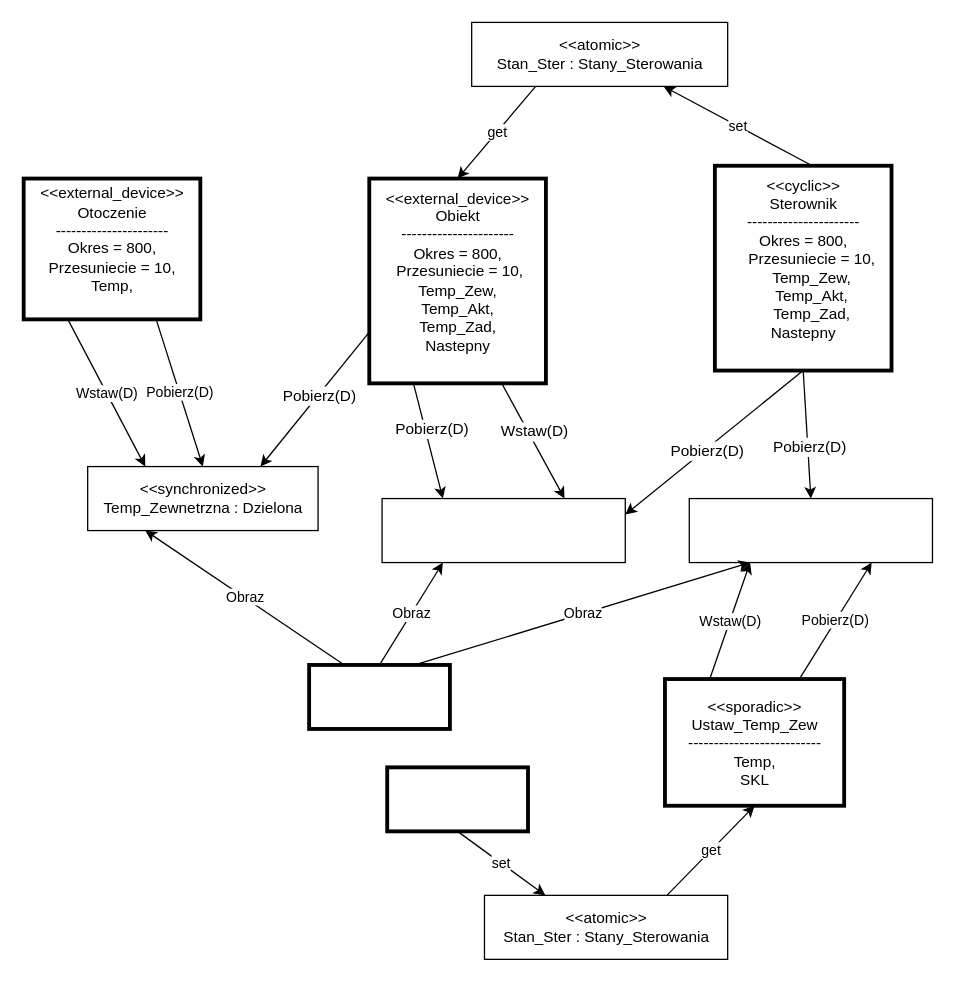
This 955x982 diagram has some shape labels left out. Each missing label, with the box of its shape:
<<cyclic>> Ekran: (307, 662, 451, 730)
<<cyclic>> Klawiatura: (385, 765, 529, 833)
<<synchronized>> Temp_Aktualna : Dzielona: (381, 497, 625, 563)
<<synchronized>> Temp_Zadana : Dzielona: (688, 497, 932, 563)
